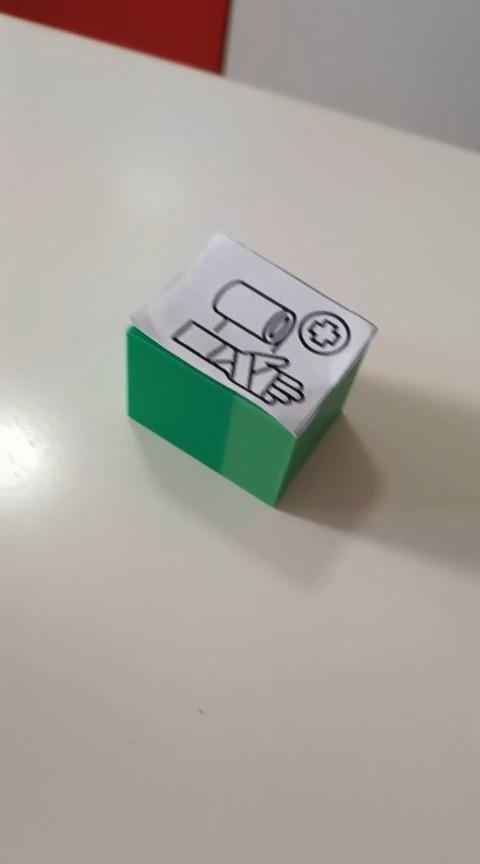Bandages: (124, 230, 378, 508)
